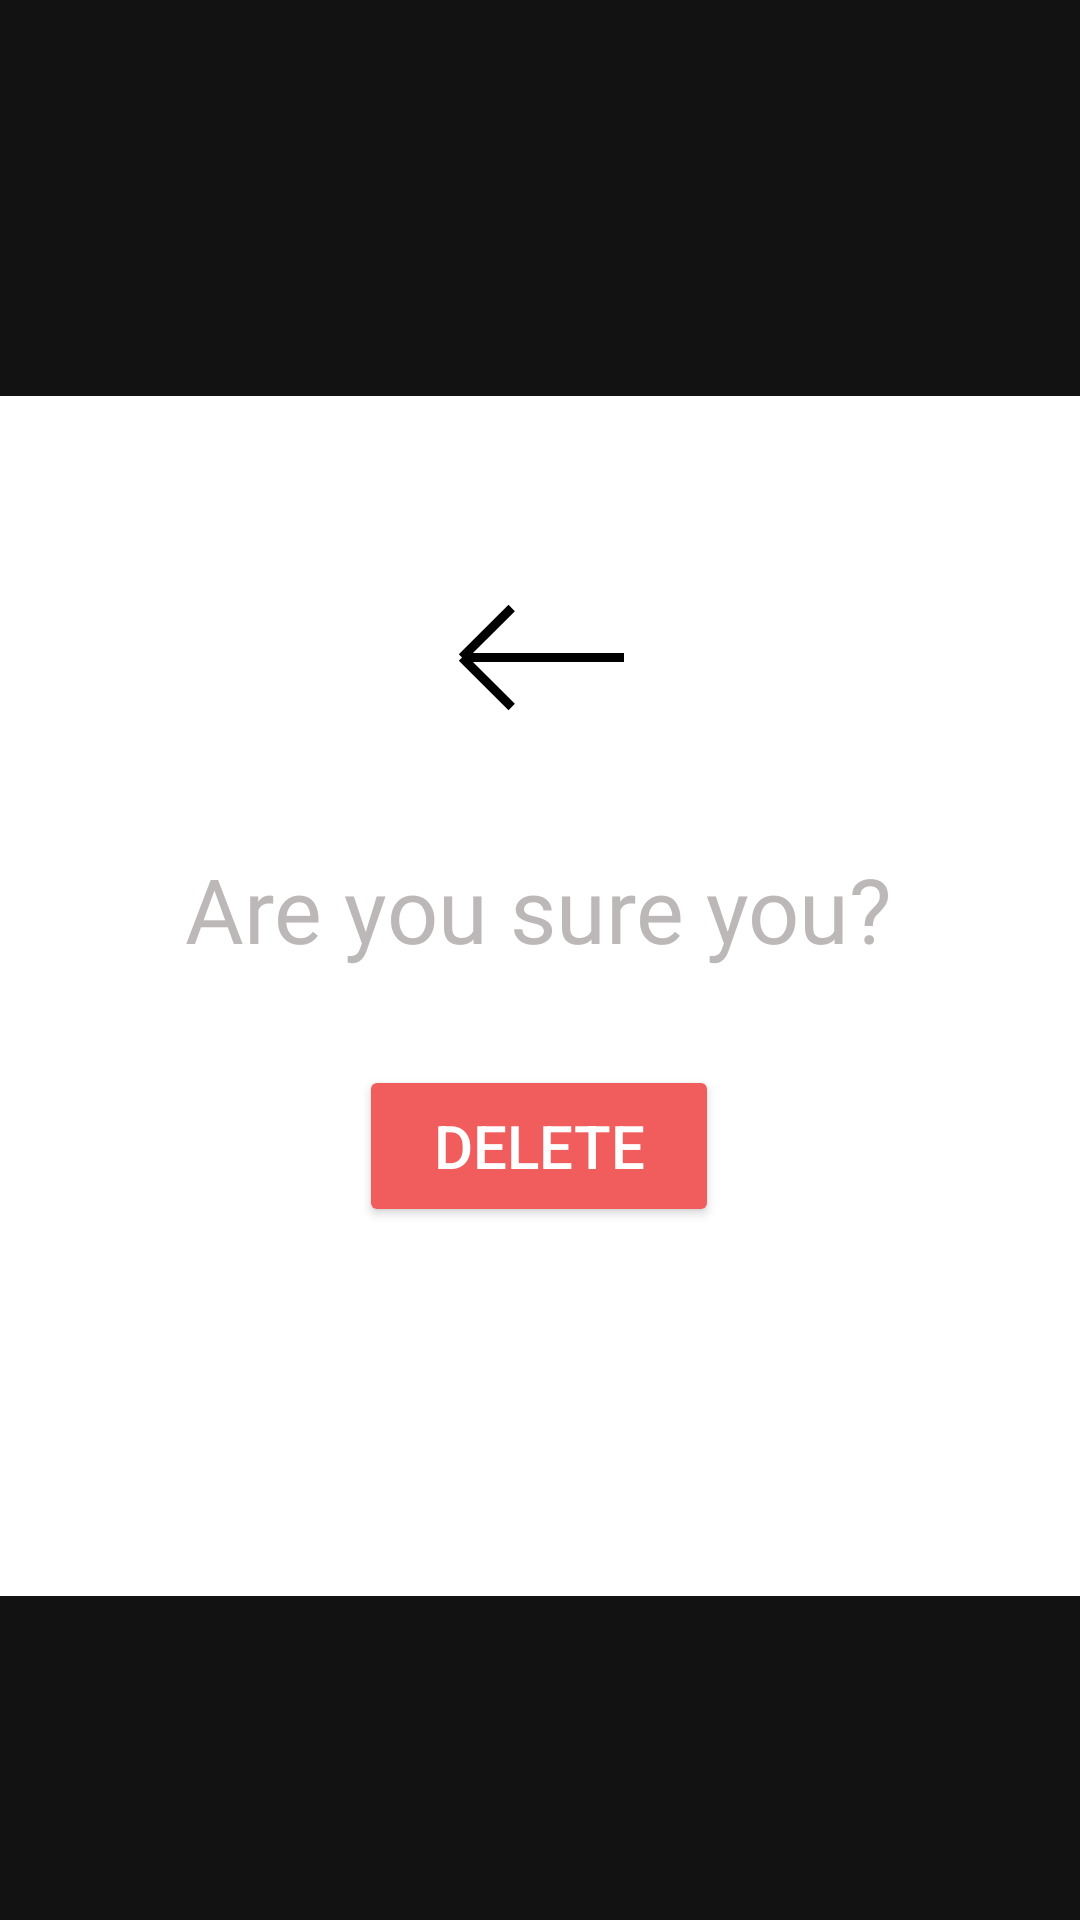

Named icons in this screenshot (1080x1920) and their bounding boxes, (x1=x1, y1=y1, x2=x2, y2=y2):
back: (x1=459, y1=605, x2=624, y2=710)
